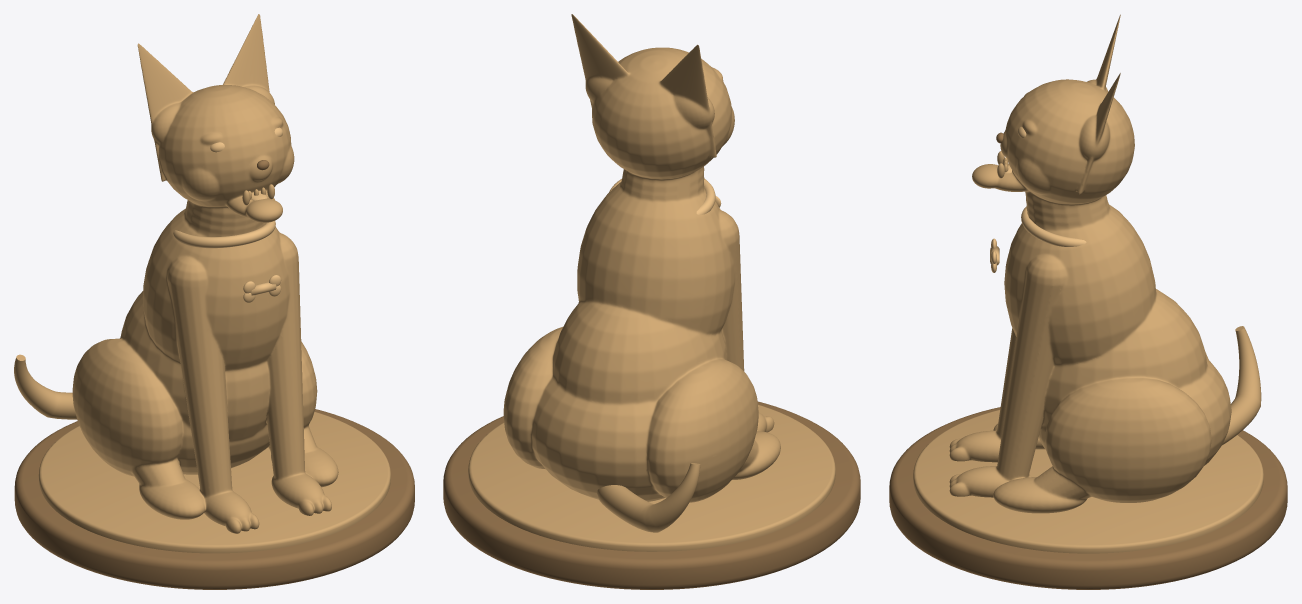
File: kabang-bronze.glb
3 renders of one model, left to right at view 1: azimuth 30°, elevation 25°; view 2: azimuth 150°, elevation 25°; view 3: azimuth 270°, elevation 25°, orthographic. The views are drawn at different scales.
Parts seen in each view (by area): view 1: Kabang, base_top, base, tail, collar; view 2: Kabang, base_top, base, tail; view 3: Kabang, base_top, base, tail, collar.
Boxes of the visible parts, <box> form: Kabang: <box>72,14,338,533</box>; base_top: <box>38,411,390,553</box>; base: <box>14,409,414,589</box>; tail: <box>14,354,77,419</box>; collar: <box>173,221,275,248</box>; Kabang: <box>503,14,780,502</box>; base_top: <box>468,404,835,551</box>; base: <box>443,401,860,589</box>; tail: <box>597,463,700,532</box>; Kabang: <box>949,14,1231,513</box>; base_top: <box>913,409,1263,553</box>; base: <box>889,407,1287,589</box>; tail: <box>1222,326,1261,445</box>; collar: <box>1021,206,1086,246</box>.
Bounding box in the file's own units: 1 × 1.29 × 1.
